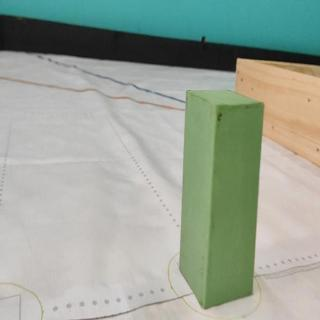greenbox: (179, 87, 264, 312)
